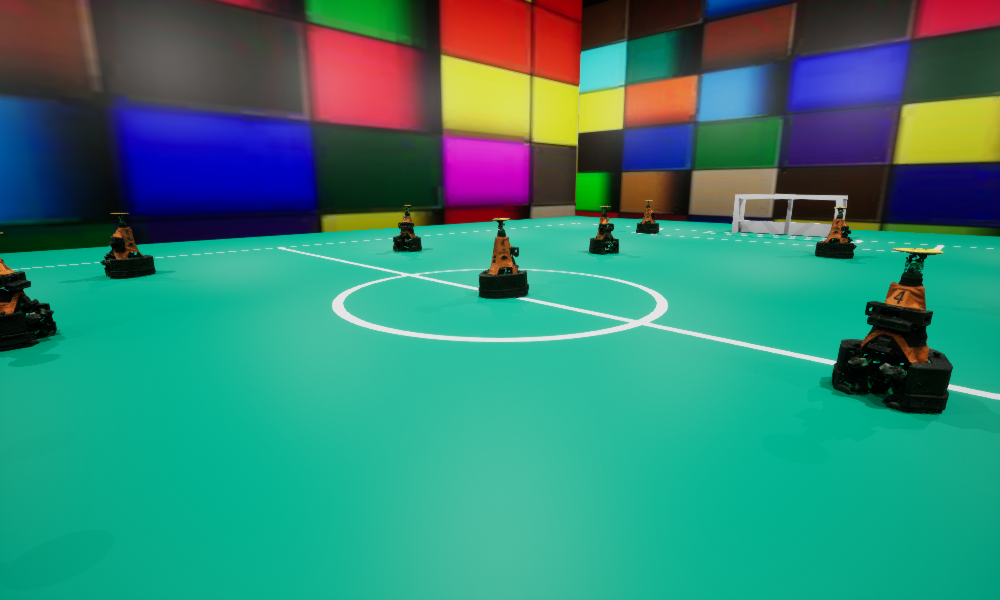0 orange robot TechUnited: (832, 248, 952, 412), (0, 232, 56, 351), (479, 218, 528, 298), (100, 213, 155, 277), (815, 207, 856, 258), (589, 206, 618, 254), (393, 205, 421, 251), (636, 200, 658, 233)
